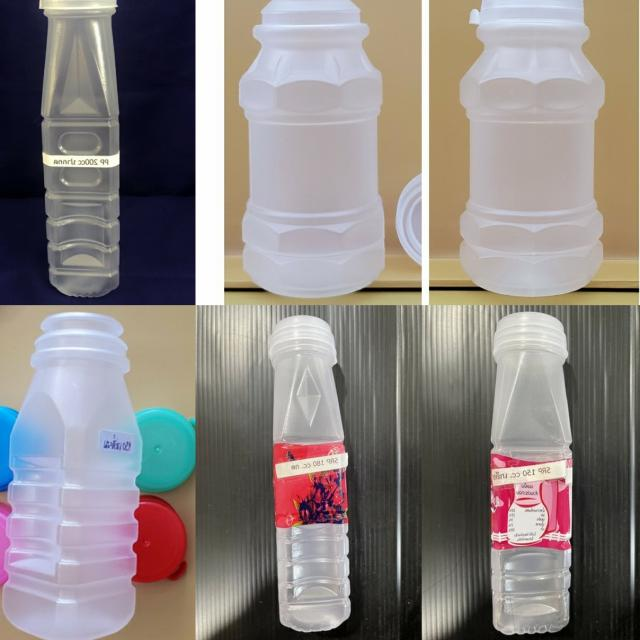plastik: (2, 312, 142, 640), (240, 0, 384, 297), (460, 0, 604, 295), (490, 312, 572, 635), (269, 315, 351, 631), (40, 0, 119, 297)
